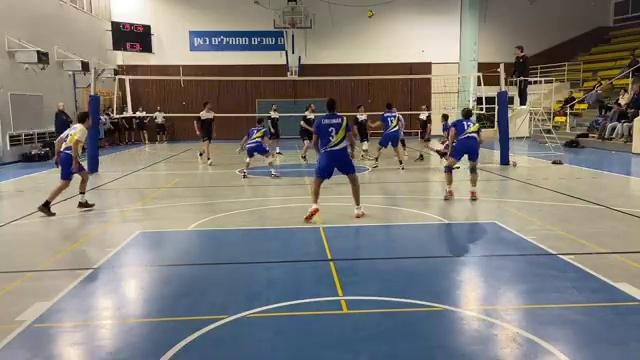ball: (363, 5, 377, 24)
